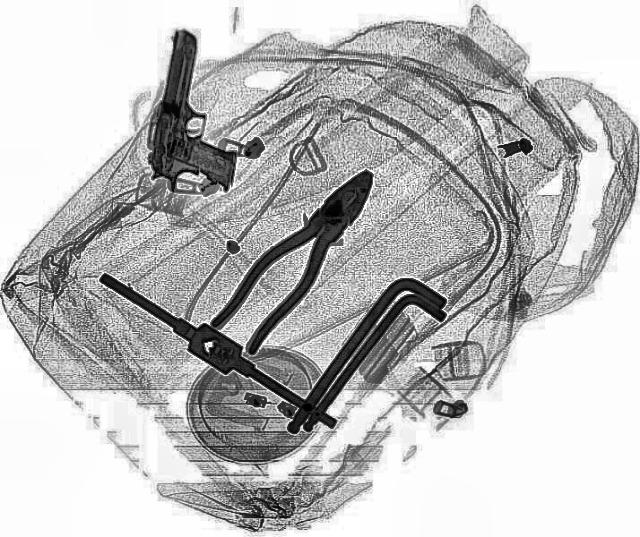Gun: (134, 25, 260, 197)
Pliers: (199, 157, 395, 355)
